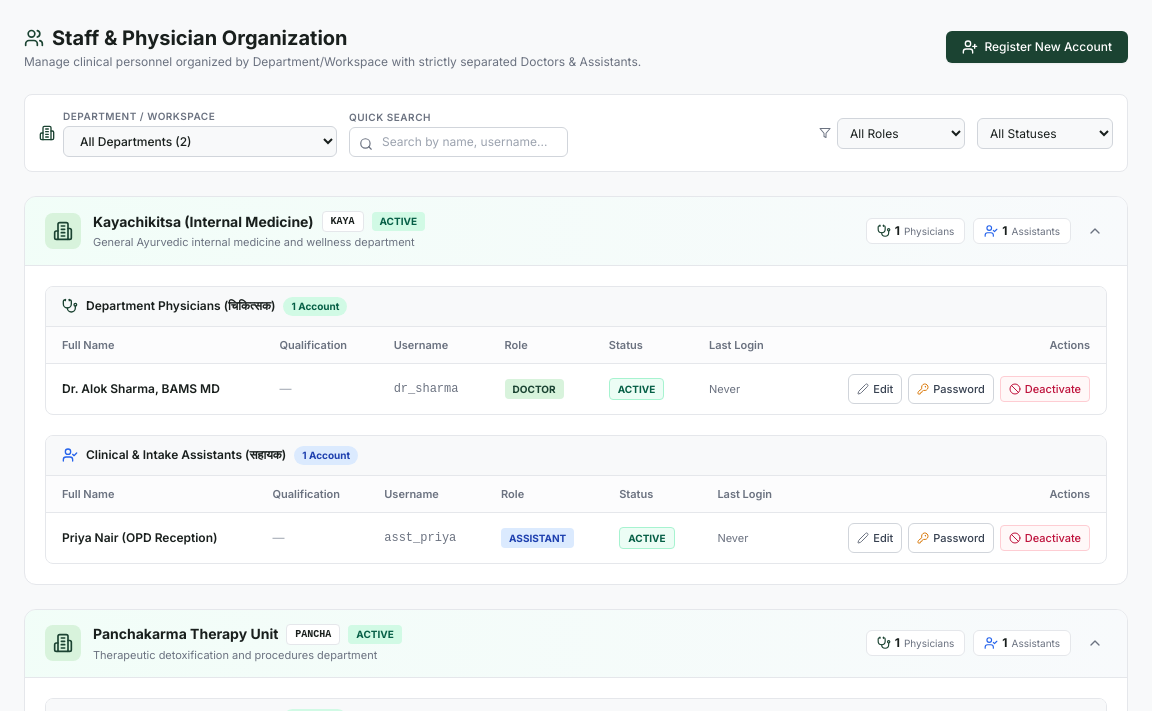
Test: Authority Panel — Department & Role Organization (UsersView) › filters users by department selector
Expected: the heading "Kayachikitsa (Internal Medicine)" is shown, [93,212,314,232]
Note: Select Panchakarma department
Select "Panchakarma Therapy Unit (PANCHA)" in the dropdown labelled "Department / Workspace" at [200, 142], box [63,126,337,157]
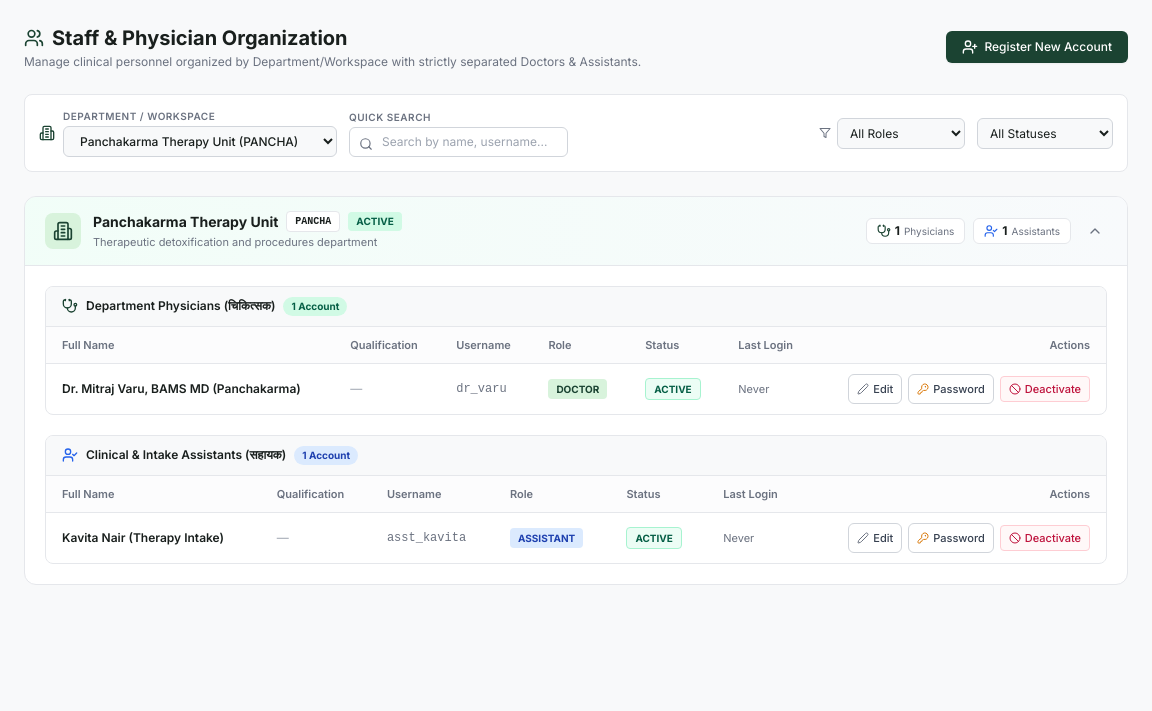
Expected: the text "Dr. Mitraj Varu, BAMS MD (Panchakarma)" is shown, [46,363,334,414]
Expected: the text "Dr. Alok Sharma, BAMS MD" is gone
